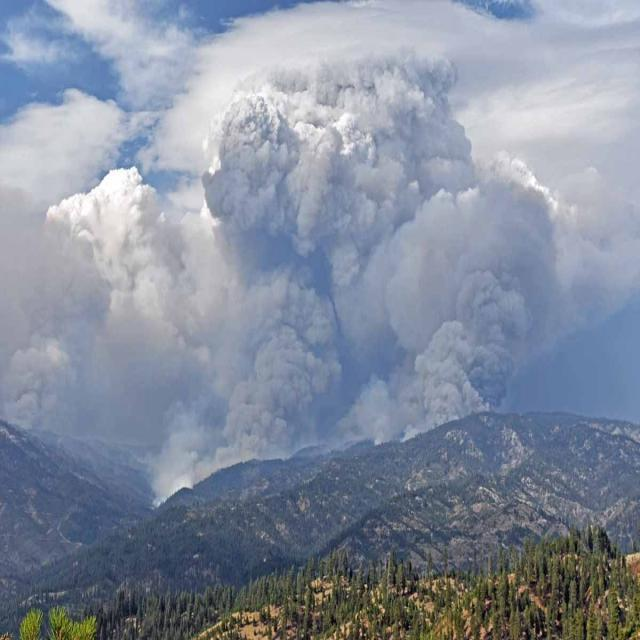Smoke: (192, 73, 548, 481)
